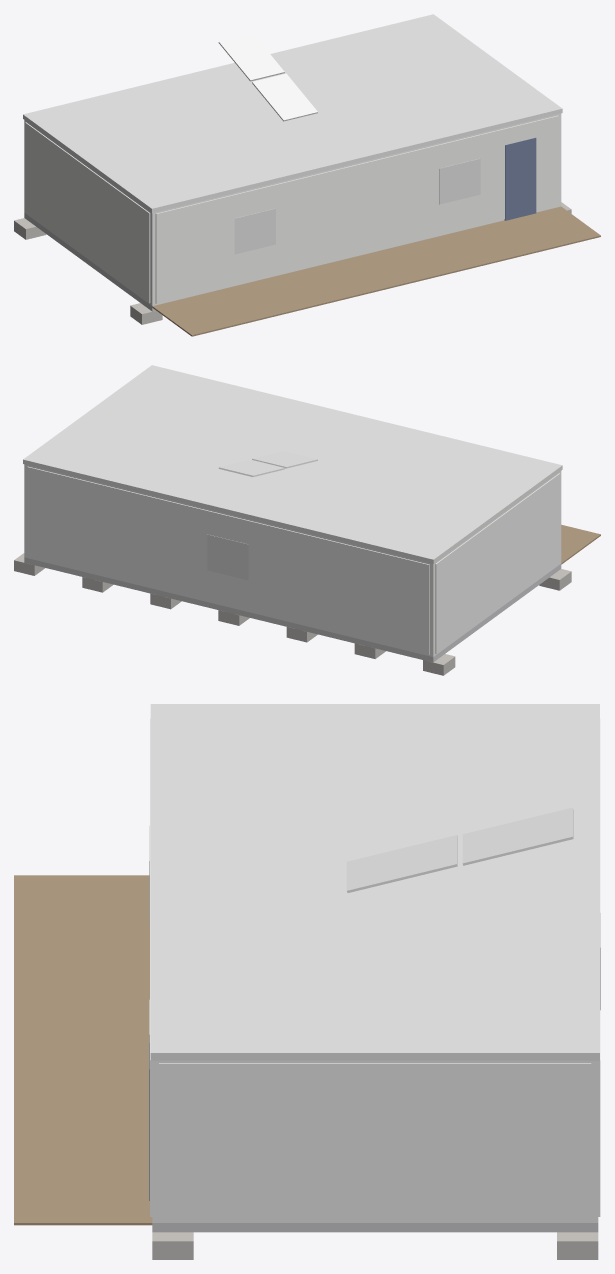
File: Studio-40-FullSolar+TerraceDeck-LOD2.glb
The picture shows the model from 3 angles, top to bottom: view 1: azimuth 30°, elevation 25°; view 2: azimuth 150°, elevation 25°; view 3: azimuth 270°, elevation 25°; orthographic projection. The views are drawn at different scales.
Parts seen in each view (by area): view 1: RoofMain, ExteriorPanelsStandard, TerraceDeck, SolarPanelArray, WindowsStandard, ExteriorShell, EntryDoor, FoundationBlocks, BaseFrame; view 2: RoofMain, ExteriorPanelsStandard, BaseFrame, ExteriorShell, FoundationBlocks, WindowsStandard, SolarPanelArray, TerraceDeck; view 3: RoofMain, ExteriorPanelsStandard, TerraceDeck, SolarPanelArray, ExteriorShell, BaseFrame, FoundationBlocks.
Part boxes in pixels (box(x1,y1,x2,y2)): RoofMain: box(23, 14, 562, 212); ExteriorPanelsStandard: box(25, 115, 558, 303); TerraceDeck: box(152, 206, 600, 336); SolarPanelArray: box(218, 33, 317, 121); WindowsStandard: box(234, 158, 480, 254); ExteriorShell: box(24, 113, 561, 305); EntryDoor: box(504, 137, 536, 220); FoundationBlocks: box(14, 202, 571, 324); BaseFrame: box(24, 213, 155, 311); RoofMain: box(23, 365, 562, 563); ExteriorPanelsStandard: box(27, 466, 560, 654); BaseFrame: box(24, 557, 561, 662); ExteriorShell: box(24, 464, 561, 656); FoundationBlocks: box(14, 553, 571, 675); WindowsStandard: box(207, 534, 248, 580); SolarPanelArray: box(218, 451, 317, 476); TerraceDeck: box(561, 524, 600, 564); RoofMain: box(150, 704, 599, 1060); ExteriorPanelsStandard: box(150, 718, 600, 1220); TerraceDeck: box(14, 875, 152, 1225); SolarPanelArray: box(346, 807, 573, 892); ExteriorShell: box(152, 1060, 598, 1222); BaseFrame: box(152, 1223, 598, 1232); FoundationBlocks: box(152, 1232, 598, 1259).
Bounding box in the file's own units: 12.49 × 4.07 × 8.49.
